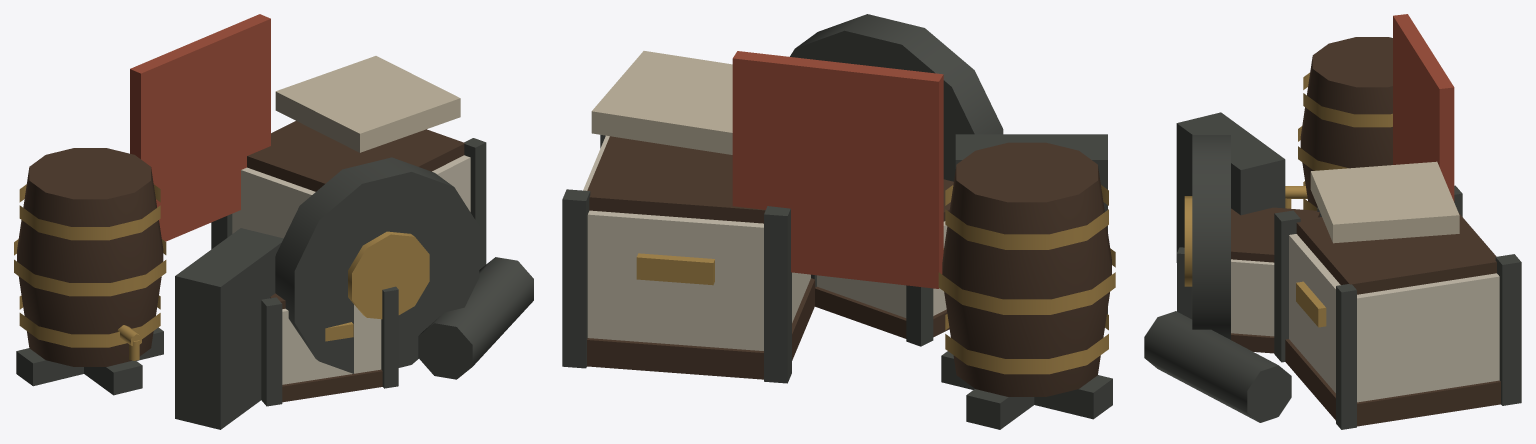
Rendered from junk_pile.glb.
3 views of the same model, side by side, from view 1: azimuth 30°, elevation 25°; view 2: azimuth 150°, elevation 25°; view 3: azimuth 270°, elevation 25° (orthographic). The views are drawn at different scales.
Parts seen in each view (by area): view 1: junk_pile; view 2: junk_pile; view 3: junk_pile.
Boxes of the visible parts, x1,y1,x2,y2 form: junk_pile: [14, 14, 533, 429]; junk_pile: [562, 14, 1115, 429]; junk_pile: [1144, 14, 1521, 429].
Size of the model in its own units: 1.96 by 1.12 by 1.47.
